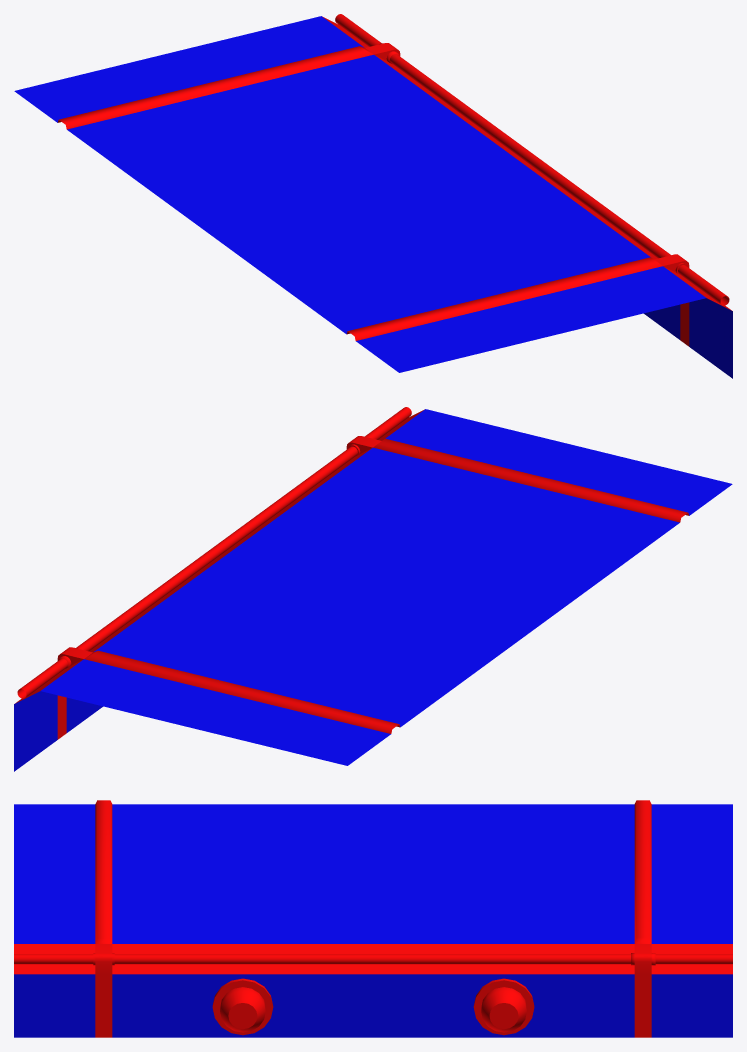
3 renders of one model, top to bottom at view 1: azimuth 30°, elevation 25°; view 2: azimuth 150°, elevation 25°; view 3: azimuth 270°, elevation 25°, orthographic. The views are drawn at different scales.
Visible parts, largest first — view 1: 4x2_Var; view 2: 4x2_Var; view 3: 4x2_Var.
Part boxes in pixels (x1,y1,x2,y2): 4x2_Var: [14, 14, 732, 378]; 4x2_Var: [14, 407, 732, 771]; 4x2_Var: [14, 800, 732, 1037].
Size of the model in its own units: 213 by 52.31 by 400.
